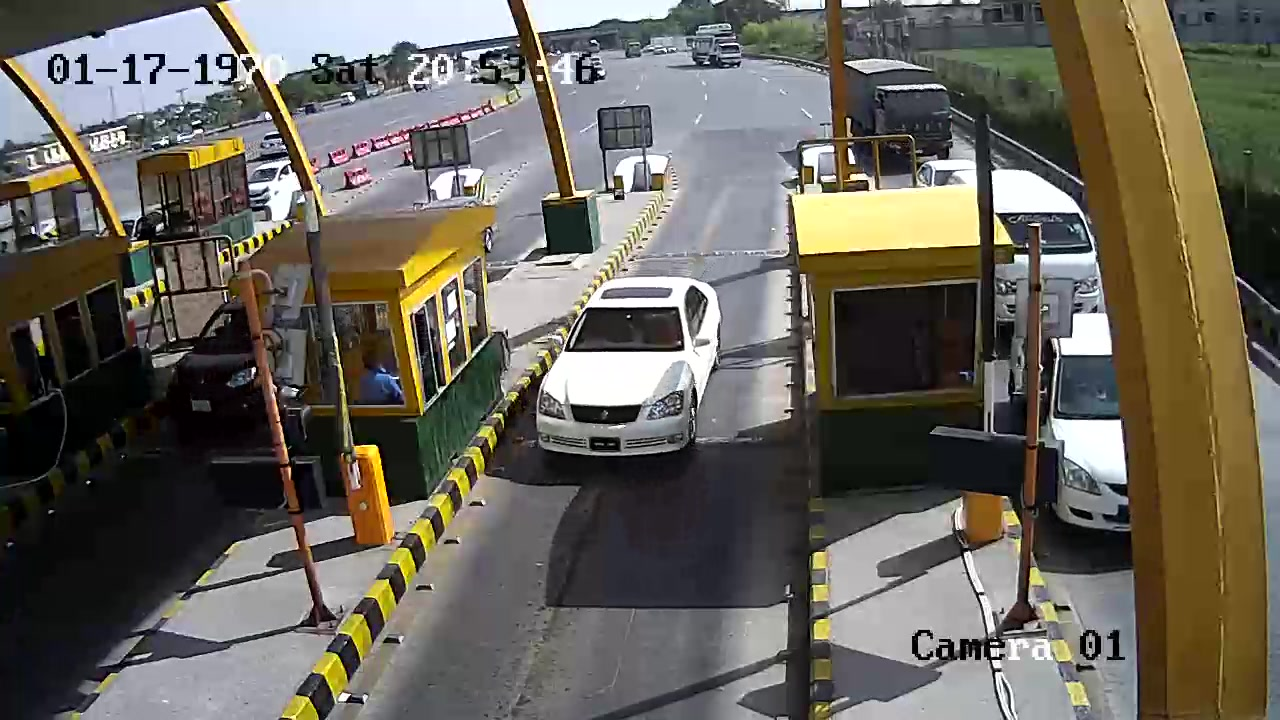F1: (529, 268, 728, 466)
